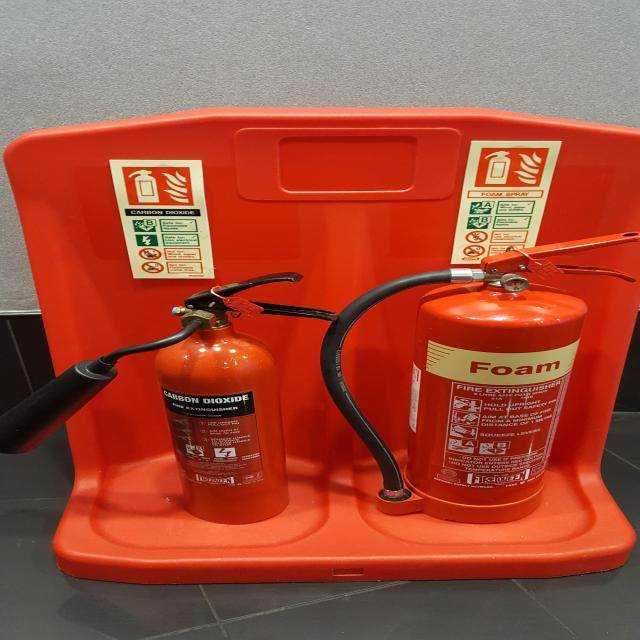fire_extinguisher: (312, 228, 640, 528), (0, 266, 352, 530)
